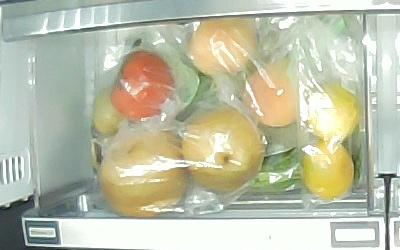peach_vinyl: (190, 15, 256, 76), (244, 59, 302, 128)
pear_vinyl: (100, 128, 186, 218), (184, 106, 261, 194)
tangerine_vinyl: (302, 138, 356, 202), (305, 83, 362, 143)
tomato_vinyl: (107, 49, 176, 124), (92, 86, 130, 134)
